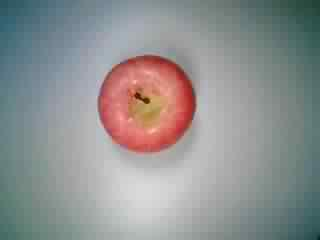apple: (93, 52, 198, 154)
